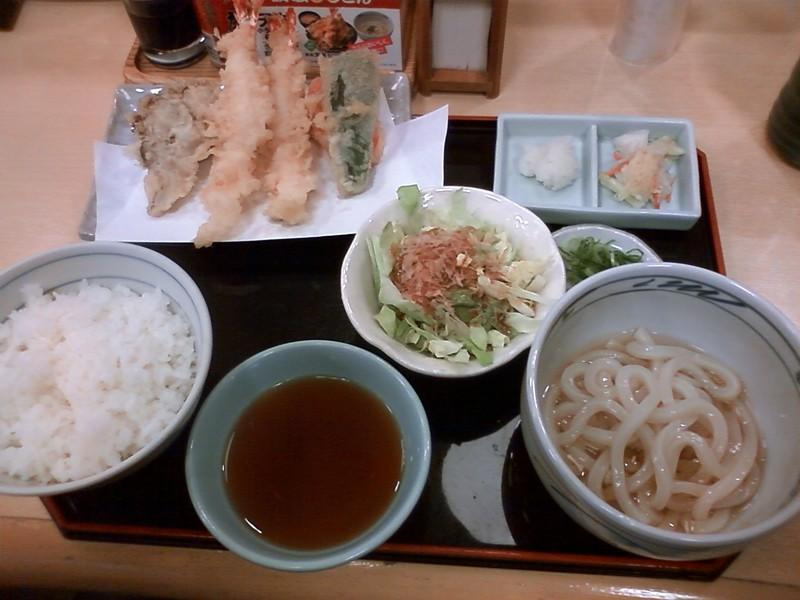plate: (0, 242, 212, 494)
rice: (0, 282, 198, 486)
